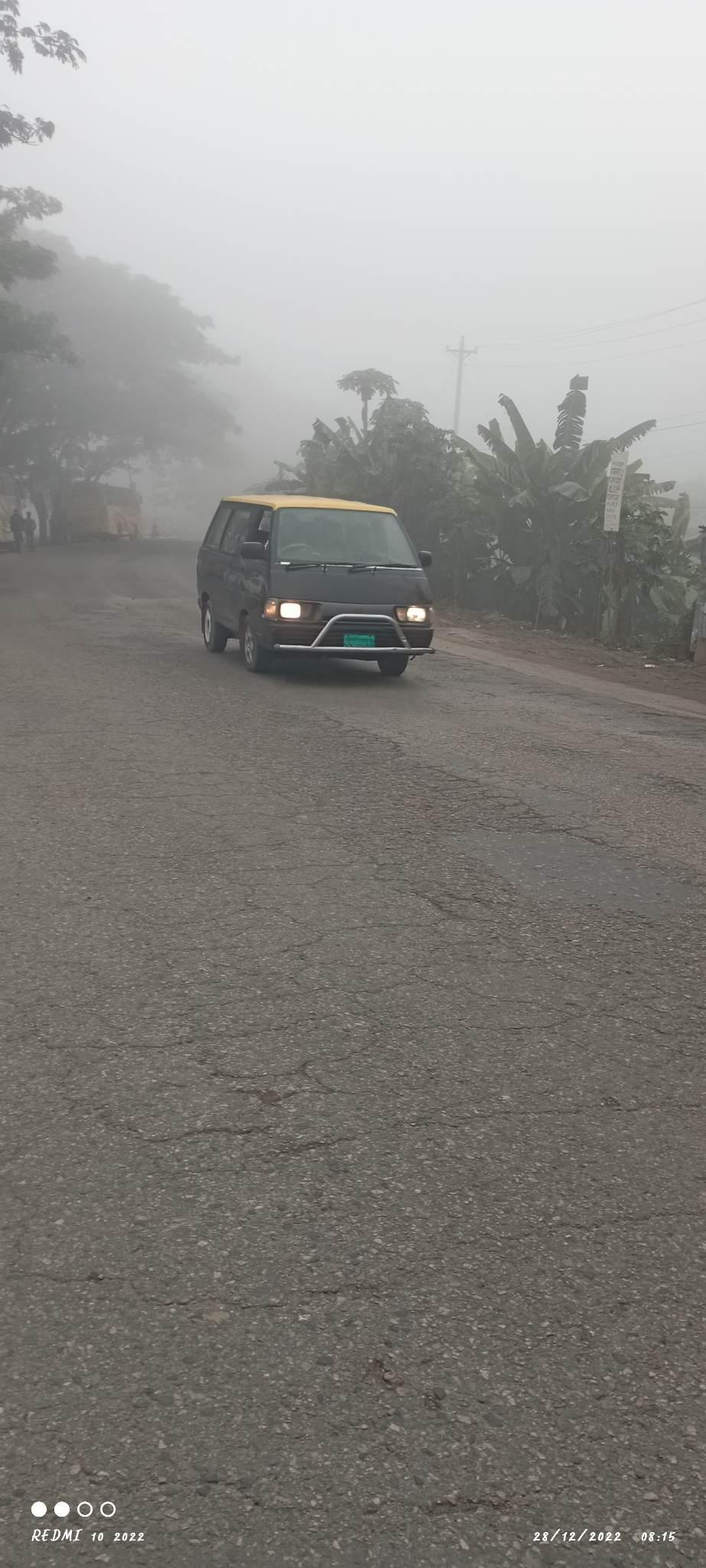Bus: (73, 466, 156, 569)
Car: (168, 476, 470, 704)
